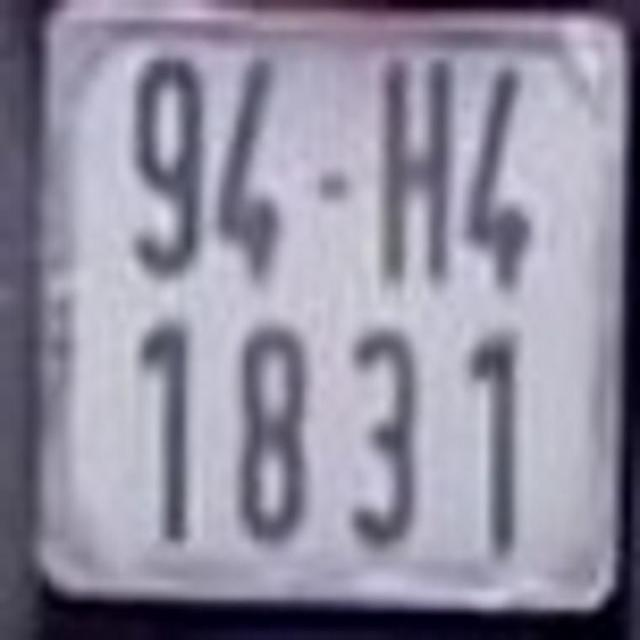1: (128, 306, 190, 545), (466, 337, 529, 562)
3: (348, 326, 421, 548)
4: (462, 66, 541, 297), (207, 51, 284, 286)
8: (237, 322, 310, 551)
9: (128, 51, 206, 279)
H: (372, 31, 455, 288)
